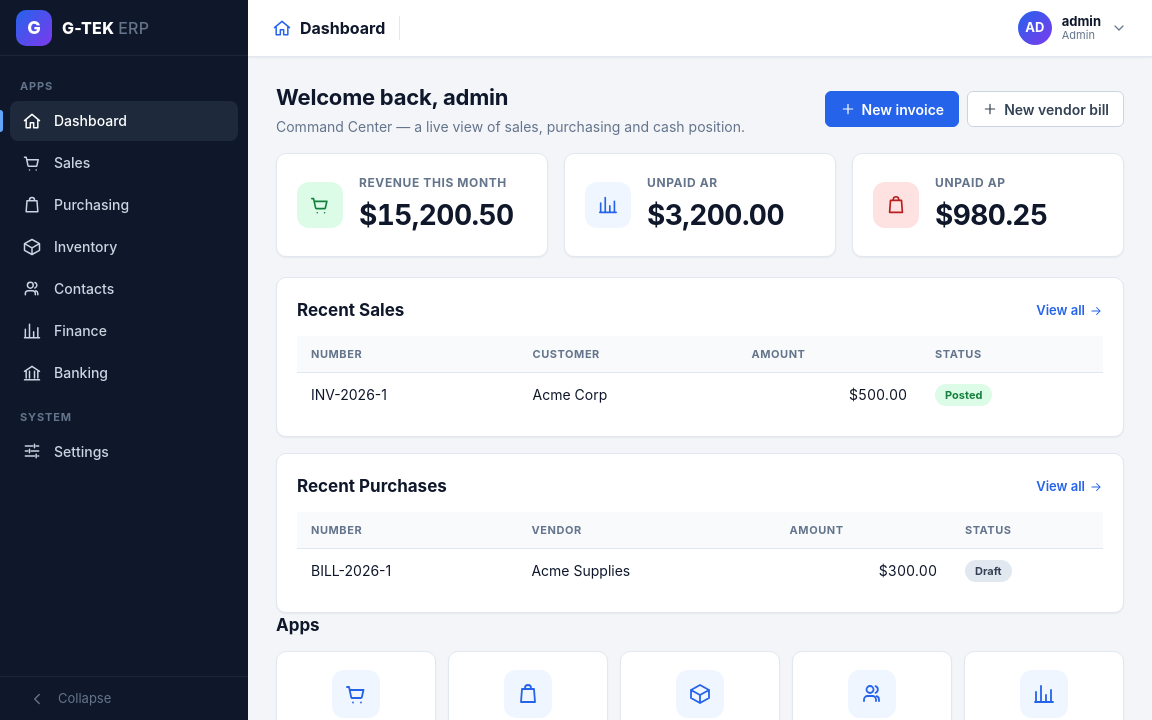
renders the command center dashboard once authenticated
The image size is (1152, 720).
Expected: the text "Revenue This Month" is shown, [359, 174, 514, 192]
Expected: the text "$15,200.50" is shown, [359, 194, 514, 236]
What coordinates should you click on to do the following:
click the link "Settings"
I would click on:
 (65, 451)
Its box is [22, 441, 109, 461].
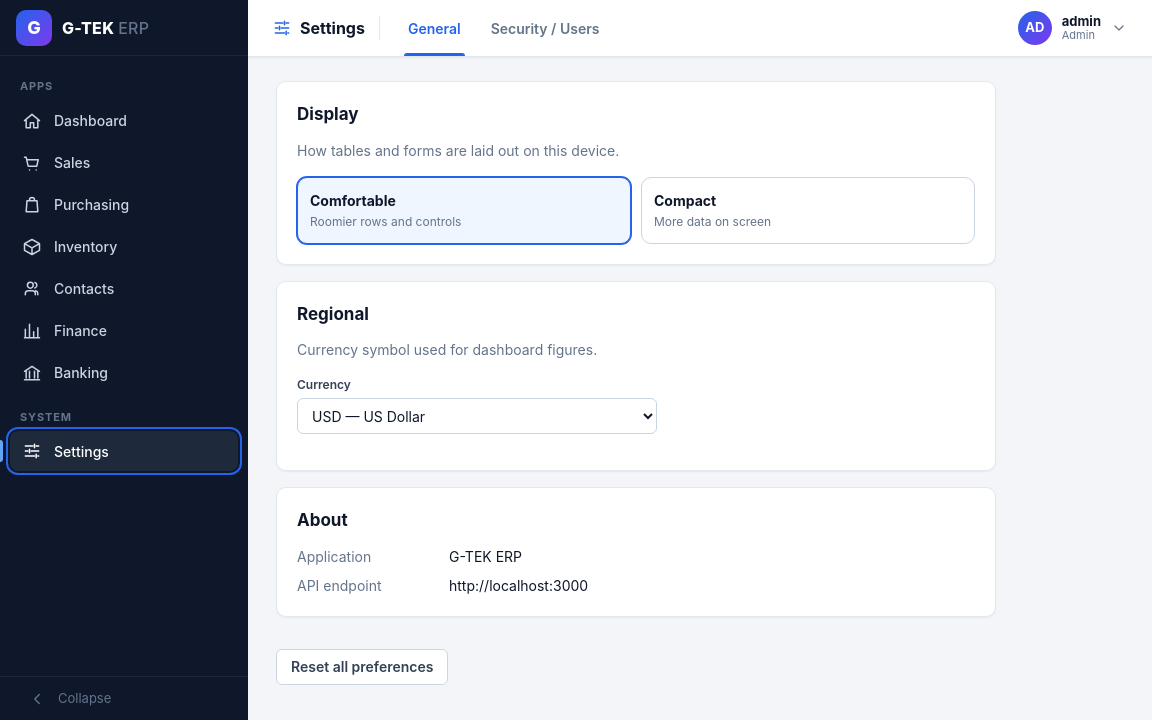
Result: the link "Security / Users" is shown at [491, 20, 600, 36]
